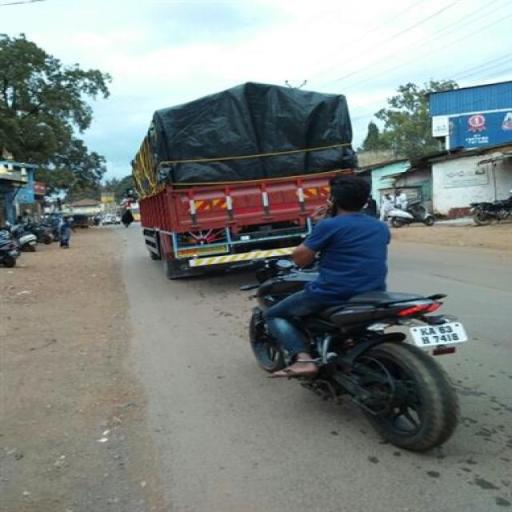using mobile: (330, 168, 370, 212)
